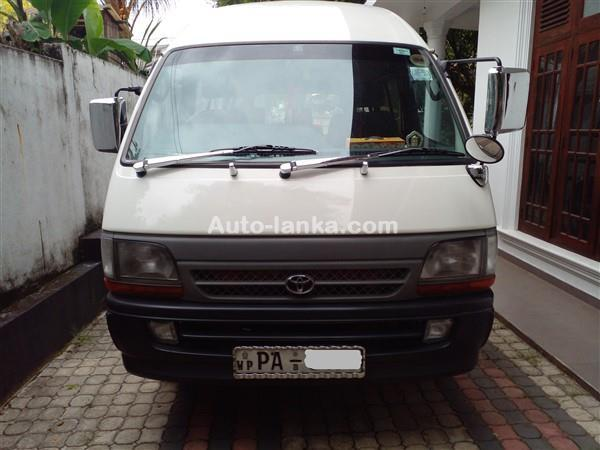van: (89, 1, 529, 385)
